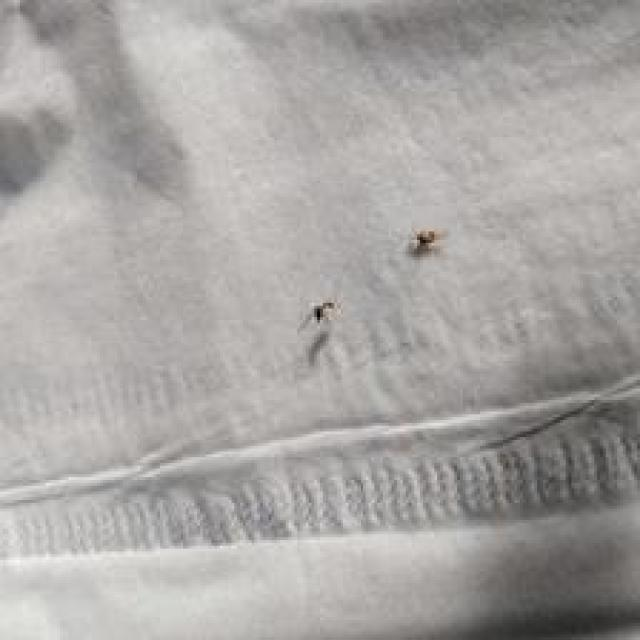Culex: (297, 298, 337, 333)
